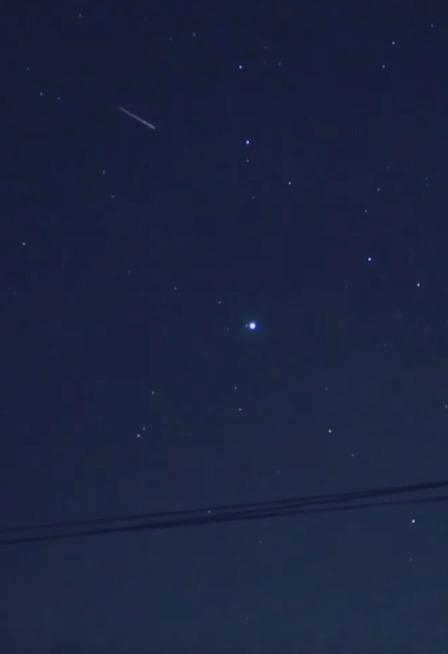meteorite: (103, 99, 173, 140)
